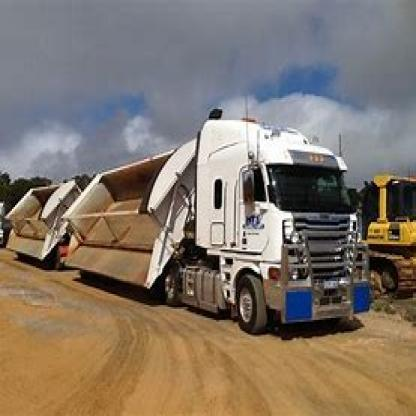dump_truck: (12, 107, 386, 350)
